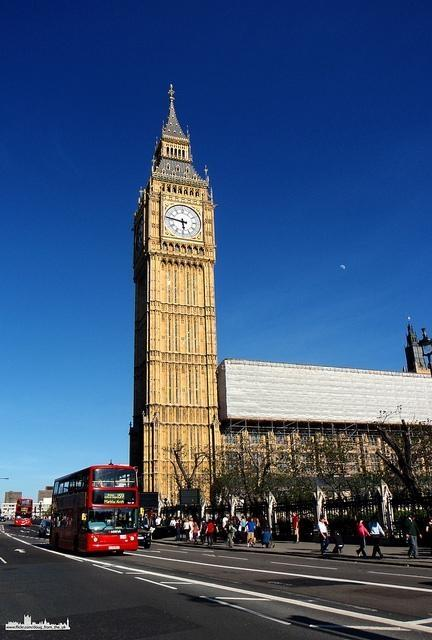bus: (48, 464, 138, 554), (14, 499, 33, 526)
